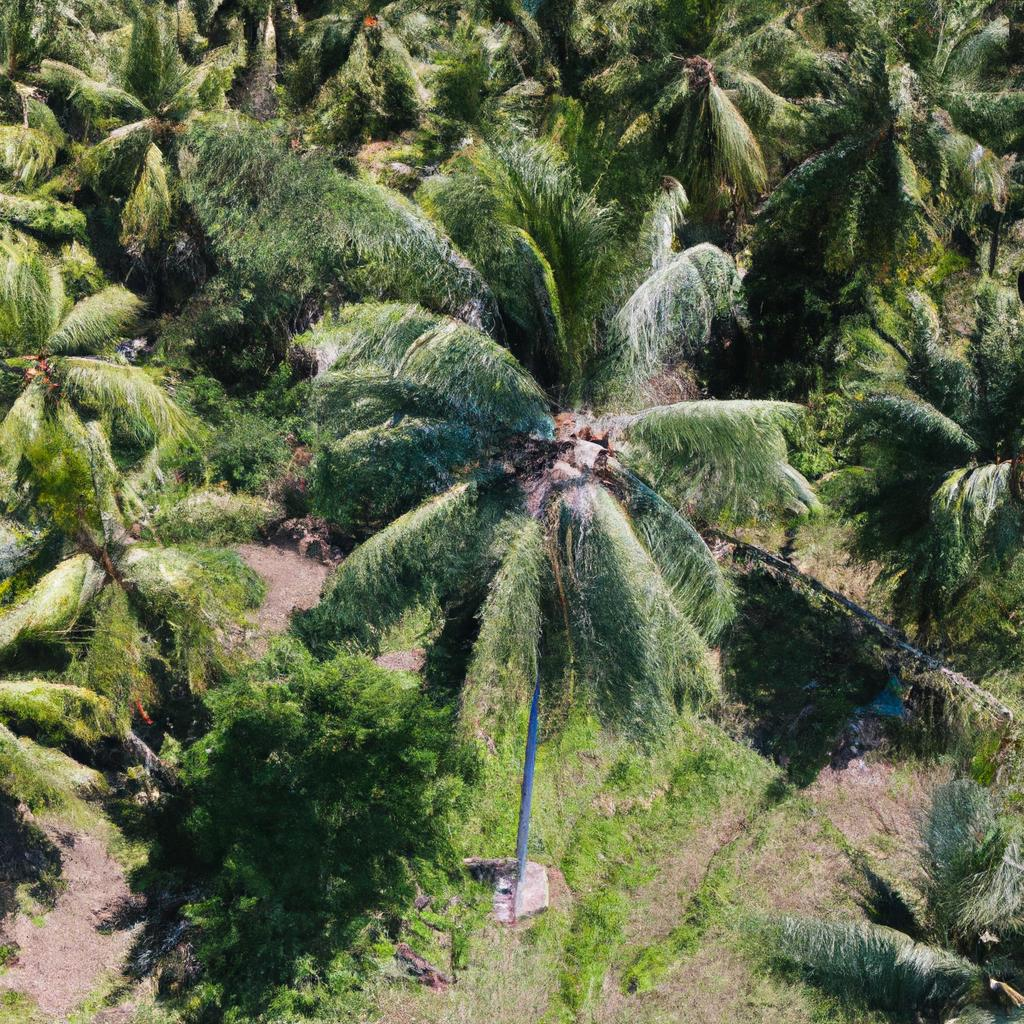coconut_tree: (189, 108, 825, 754)
